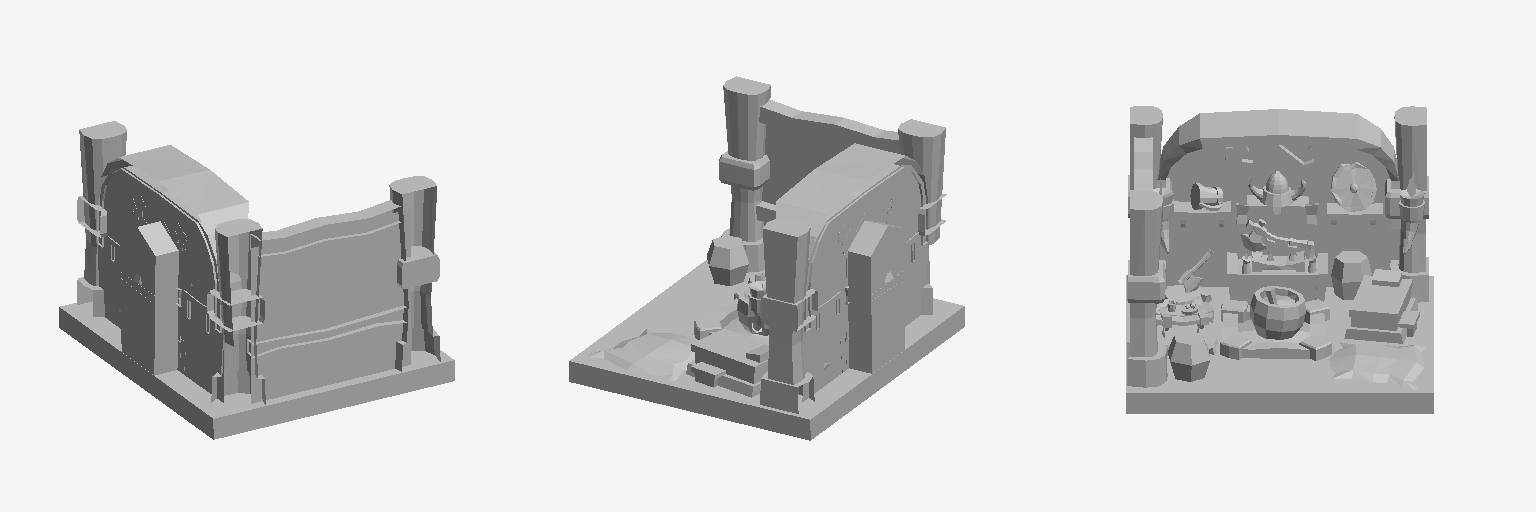
Rendered from viking_room.obj.
3 views of the same model, side by side, from view 1: azimuth 30°, elevation 25°; view 2: azimuth 150°, elevation 25°; view 3: azimuth 270°, elevation 25° (orthographic).
Parts seen in each view (by area): view 1: mesh_all1_Texture1_0; view 2: mesh_all1_Texture1_0; view 3: mesh_all1_Texture1_0.
Part boxes in pixels (x1,y1,x2,y2): mesh_all1_Texture1_0: (59,121,454,439); mesh_all1_Texture1_0: (569,76,964,440); mesh_all1_Texture1_0: (1126,106,1433,413).
Size of the model in its own units: 10.57 by 8.25 by 11.64.